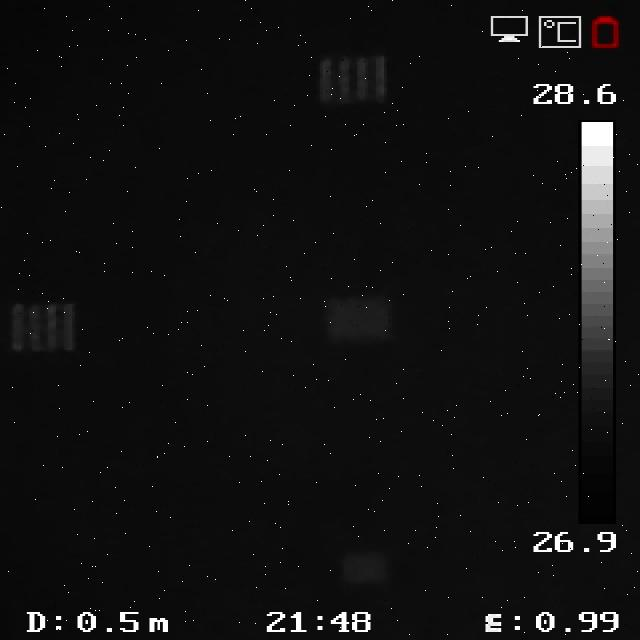Indistinguishable 4-bar target: (321, 296, 392, 343), (343, 554, 392, 589)
threshold 4-bar target: (317, 55, 388, 107), (13, 302, 76, 352)
